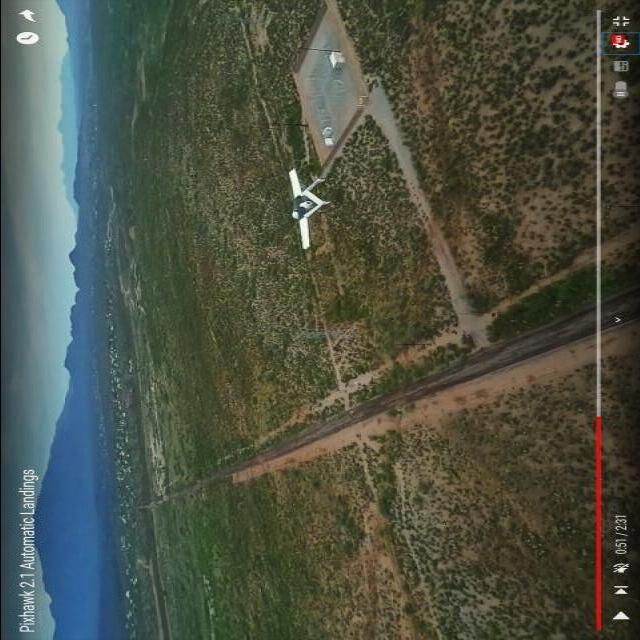UAV: (276, 142, 348, 264)
